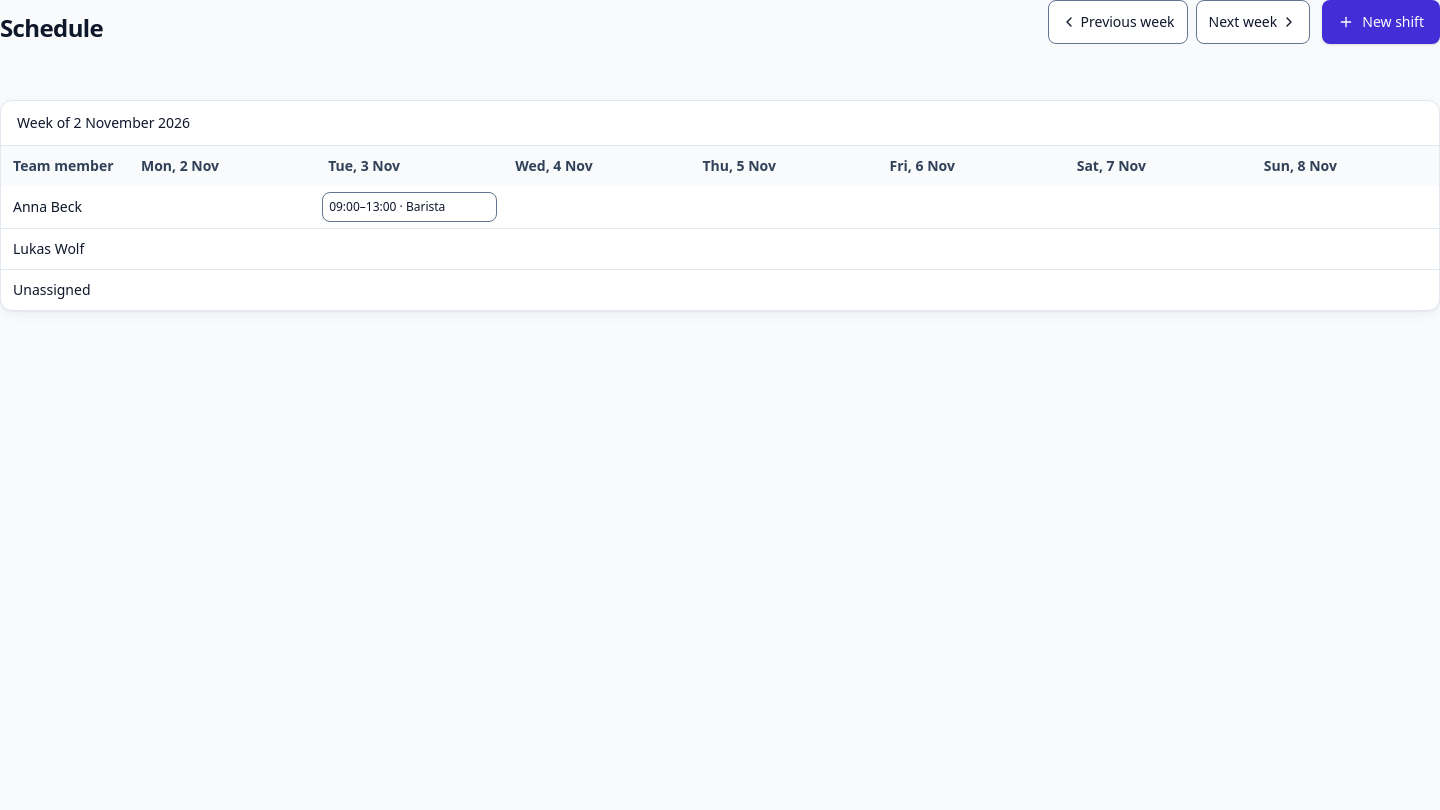
SchedulePage › opens the shift dialog from New shift and from a shift button
Click the button "New shift": (1381, 22) [1322,0,1439,44]
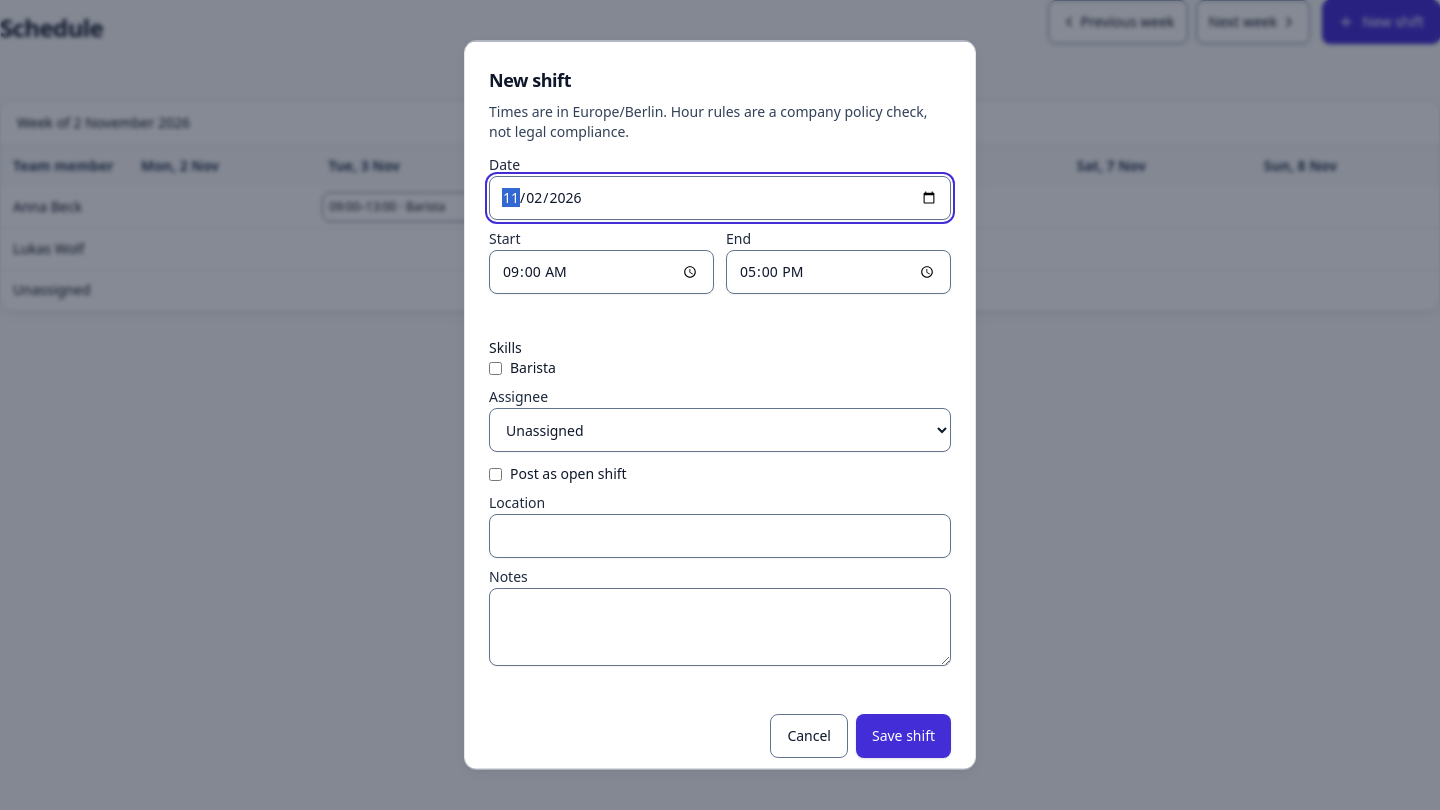
Expected: the dialog "New shift" is shown, [464,40,976,770]
Press Escape
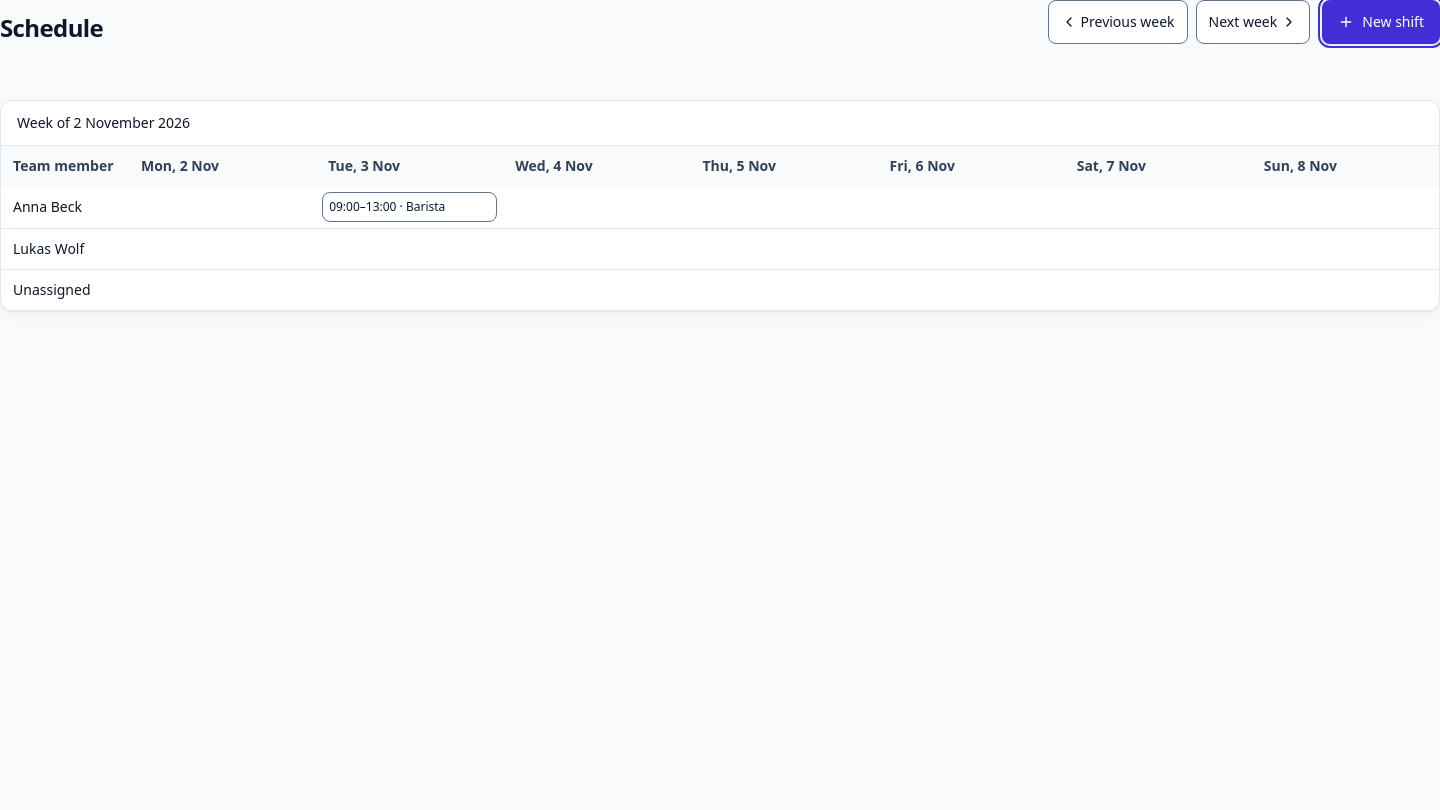
Click the button "09:00–13:00 · Barista": (410, 207) [322,192,497,222]
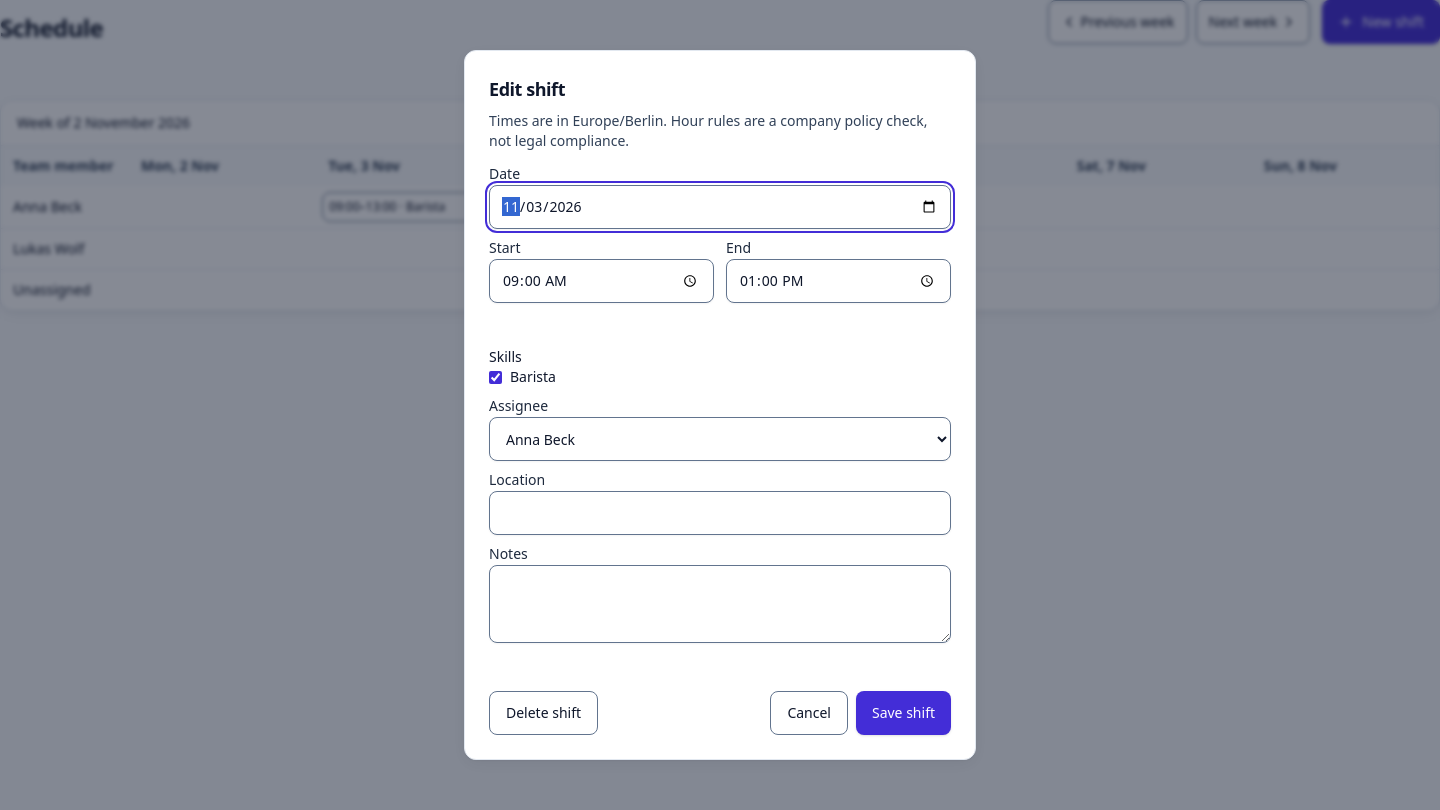
Expected: the dialog "Edit shift" is shown, [464,50,976,760]
